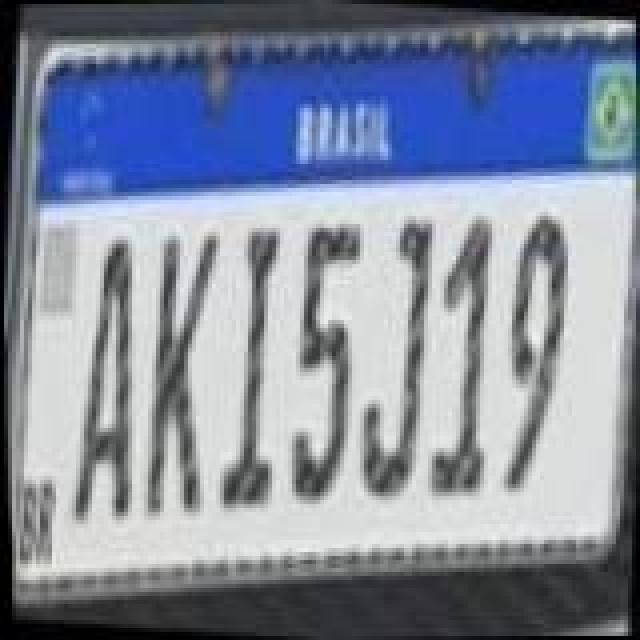1: (418, 212, 502, 504)
5: (278, 218, 370, 510)
9: (486, 202, 578, 494)
A: (64, 232, 156, 528)
I: (210, 224, 294, 516)
J: (350, 210, 442, 506)
K: (134, 228, 226, 528)
